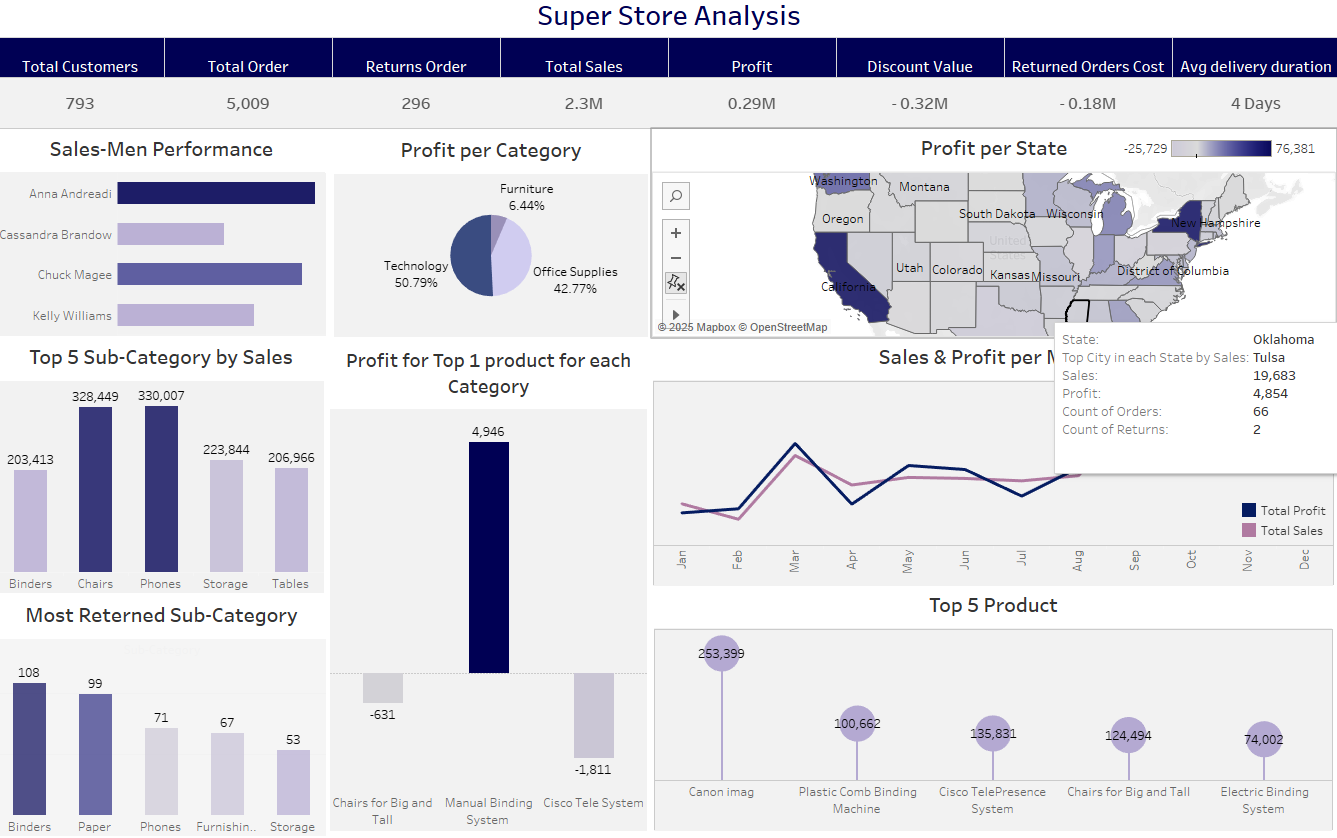

This screenshot's page, from the dashboard's own definition file:
{"tool":"tableau","page":{"name":"Super Store Analysis","canvas":[1000,1000],"units":"permille","ordinal":0},"visuals":[{"type":"title","box":[5.9,9.3,988.1,52.5]},{"type":"worksheet","title":"KPIs","mark":"Automatic","box":[1.5,61.8,996.3,108.5]},{"type":"worksheet","title":"Profit per State","mark":"Automatic","box":[487.4,169.2,506.7,242.7]},{"type":"worksheet","title":"Sales by Sales-Men","mark":"Bar","rows":["Person"],"cols":["Calculation_1333347007119671304"],"box":[2.2,170.4,243.7,240.4]},{"type":"worksheet","title":"Profit per Category","mark":"Pie","box":[251.8,171.5,232.6,240.4]},{"type":"legend","title":"Profit per State","param":"[federated.01jj03r1tv1ldn19yh2gz1p7oj7y].[sum:Profit:qk]","box":[834.1,177.4,148.2,29.2]},{"type":"worksheet","title":"Top Sales 5 Sub-Category","mark":"Automatic","rows":["Sales"],"cols":["Sub-Category"],"box":[3,413.1,241.5,297.6]},{"type":"worksheet","title":"Sales & Profit per Month","mark":"Line","rows":["Calculation_1333347007119671304","Calculation_1333347007119867913"],"cols":["Calculation_264867996363223041"],"box":[488.2,413.1,504.4,289.4]},{"type":"worksheet","title":"Profit for Top 1 product for each Category","mark":"Bar","rows":["Profit"],"cols":["Calculation_1154610397414662150"],"box":[248.9,417.7,234.8,570.6]},{"type":"worksheet","title":"Top 5 Product","mark":"Automatic","rows":["Sales","Sales"],"cols":["Product Name"],"box":[488.9,702.5,503,285.9]},{"type":"worksheet","title":"Most Reterned Sub-Category","mark":"Automatic","rows":["Returns_0AB84C8AF26648ACB48E50B596AB4C32"],"cols":["Sub-Category"],"box":[2.2,714.1,243.7,280.1]}]}

Visuals, with their boxes on the dashboard's canvas, which has no fixed pixel size, in thousandths of its width and height (x1, y1, x2, y2). These are canvas units, not pixel positions in the 1337x838 screenshot, which may show the page scaled, cropped or inside an application window:
title: BBox(6, 9, 994, 62)
"KPIs" worksheet: BBox(2, 62, 998, 170)
"Profit per State" worksheet: BBox(487, 169, 994, 412)
"Sales by Sales-Men" worksheet (Bar marks): BBox(2, 170, 246, 411)
"Profit per Category" worksheet (Pie marks): BBox(252, 172, 484, 412)
"Profit per State" legend: BBox(834, 177, 982, 207)
"Top Sales 5 Sub-Category" worksheet: BBox(3, 413, 244, 711)
"Sales & Profit per Month" worksheet (Line marks): BBox(488, 413, 993, 702)
"Profit for Top 1 product for each Category" worksheet (Bar marks): BBox(249, 418, 484, 988)
"Top 5 Product" worksheet: BBox(489, 702, 992, 988)
"Most Reterned Sub-Category" worksheet: BBox(2, 714, 246, 994)
